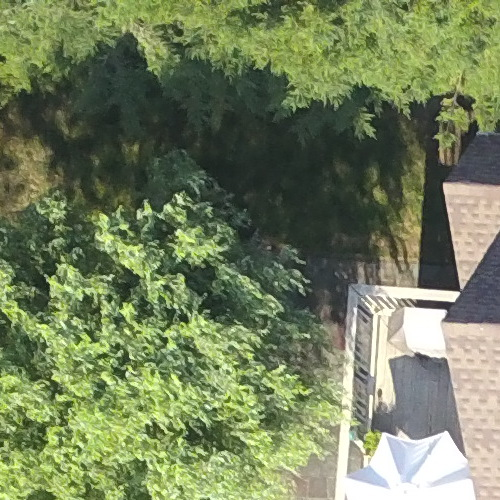porch: (315, 251, 481, 500)
umbrella: (340, 423, 475, 500)
